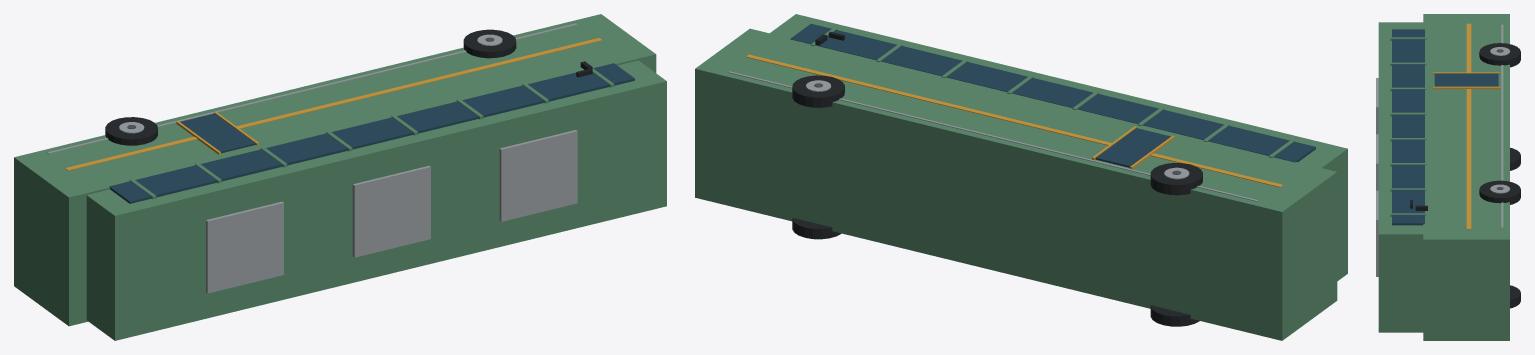
The model's file is RM_Bus_14.glb.
The picture shows the model from 3 angles, left to right: view 1: azimuth 30°, elevation 25°; view 2: azimuth 150°, elevation 25°; view 3: azimuth 270°, elevation 25°; orthographic projection. The views are drawn at different scales.
Parts seen in each view (by area): view 1: part_001, part_000, part_002, part_039, part_038, part_037, part_013, part_040, part_014, part_030, part_024; view 2: part_000, part_002, part_001, part_013, part_040, part_030, part_024, part_014, part_021, part_027; view 3: part_000, part_001, part_002, part_013, part_040, part_030, part_024, part_014, part_042, part_039, part_021, part_027 (+5 smaller).
Part boxes in pixels (box(x1,y1,x2,y2)): part_001: box(86, 60, 666, 340); part_000: box(14, 14, 656, 326); part_002: box(109, 63, 634, 203); part_039: box(499, 130, 577, 221); part_038: box(352, 166, 430, 257); part_037: box(206, 201, 283, 293); part_013: box(65, 38, 602, 170); part_040: box(180, 113, 255, 153); part_014: box(47, 23, 577, 153); part_030: box(463, 29, 516, 58); part_024: box(105, 117, 157, 145); part_000: box(695, 28, 1337, 340); part_002: box(790, 23, 1315, 162); part_001: box(770, 14, 1347, 281); part_013: box(746, 54, 1283, 187); part_040: box(1095, 128, 1170, 167); part_030: box(792, 75, 844, 107); part_024: box(1150, 163, 1202, 195); part_014: box(728, 71, 1258, 201); part_021: box(1150, 305, 1199, 326); part_027: box(792, 218, 841, 239); part_000: box(1423, 14, 1509, 340); part_001: box(1378, 22, 1423, 332); part_002: box(1392, 29, 1424, 225); part_013: box(1466, 23, 1471, 229); part_040: box(1434, 73, 1498, 86); part_030: box(1479, 180, 1520, 204); part_024: box(1479, 43, 1520, 67); part_014: box(1501, 24, 1503, 228); part_042: box(1433, 86, 1500, 89); part_039: box(1376, 190, 1378, 276); part_021: box(1510, 147, 1520, 170); part_027: box(1510, 285, 1520, 308).
Size of the model in its own units: 12.06 by 2.85 by 3.28.
